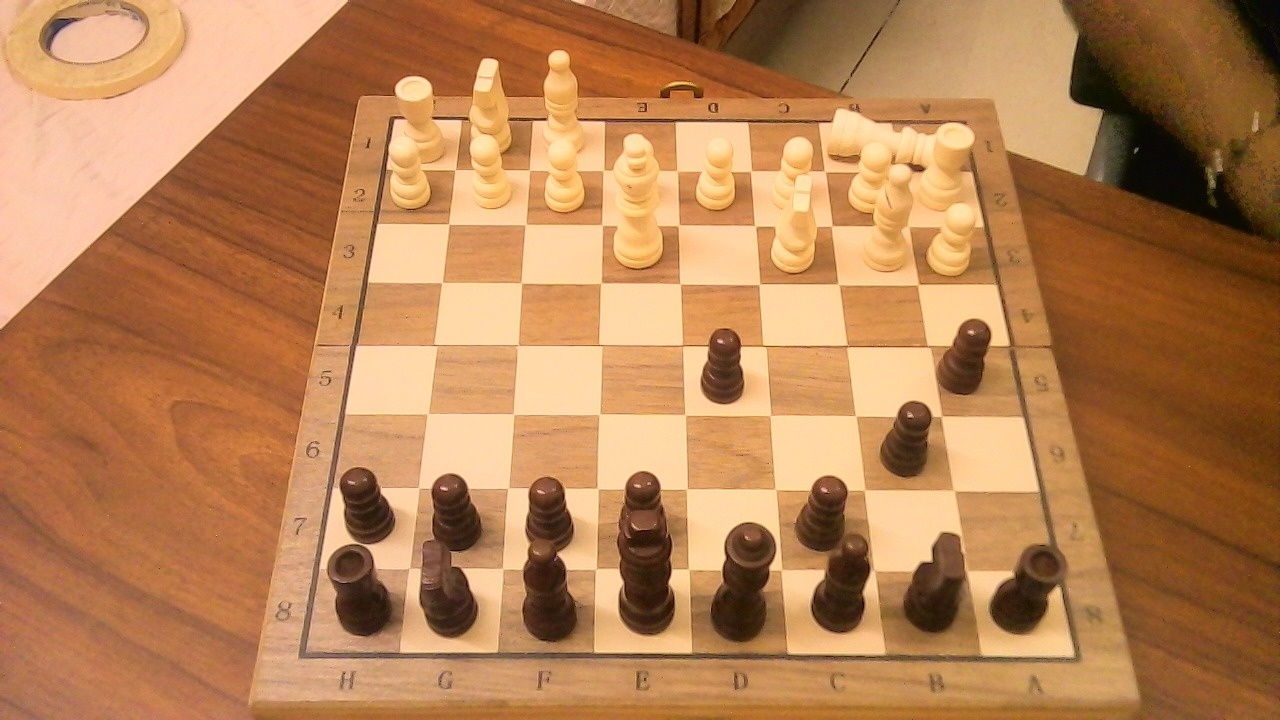B: (856, 154, 923, 277), (534, 38, 593, 159)
K: (606, 124, 674, 271)
N: (763, 163, 830, 277), (461, 47, 519, 158)
P: (922, 193, 986, 278), (459, 124, 518, 214), (535, 130, 593, 217), (763, 128, 821, 215), (688, 128, 744, 215), (382, 127, 438, 211), (841, 133, 893, 218)
R: (917, 111, 983, 216), (390, 67, 451, 167)
b: (508, 540, 590, 646), (829, 521, 884, 638)
k: (610, 520, 680, 640)
n: (411, 525, 491, 642), (900, 546, 979, 636)
p: (331, 456, 405, 544), (874, 388, 944, 481), (937, 307, 1001, 397), (432, 473, 482, 552), (522, 477, 576, 550), (618, 470, 668, 545), (803, 475, 853, 550), (700, 330, 745, 405)
q: (701, 509, 790, 648)
r: (985, 532, 1077, 637), (321, 533, 402, 639)
